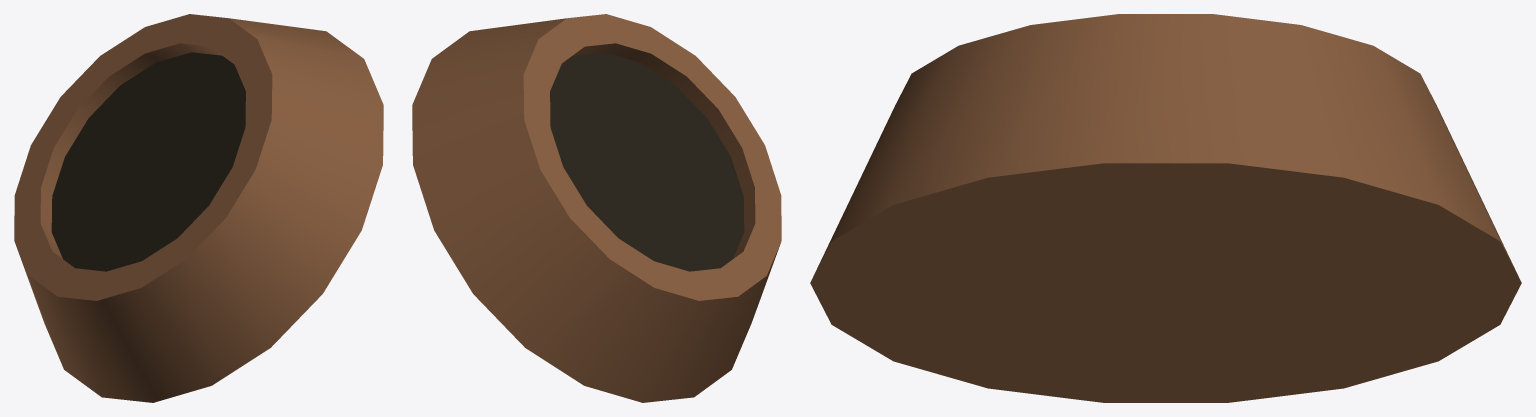
Rendered from quaternius-ultimate-space-pack-roof-vent-l-transformed.glb.
3 views of the same model, side by side, from view 1: azimuth 30°, elevation 25°; view 2: azimuth 150°, elevation 25°; view 3: azimuth 270°, elevation 25° (orthographic). The views are drawn at different scales.
Parts seen in each view (by area): view 1: Roof_VentL; view 2: Roof_VentL; view 3: Roof_VentL.
Boxes of the visible parts, <box> form: Roof_VentL: <box>14,14,383,402</box>; Roof_VentL: <box>412,14,781,402</box>; Roof_VentL: <box>810,14,1521,402</box>.
Size of the model in its own units: 1.15 by 1.15 by 1.43.
1 material, 1 textured.
